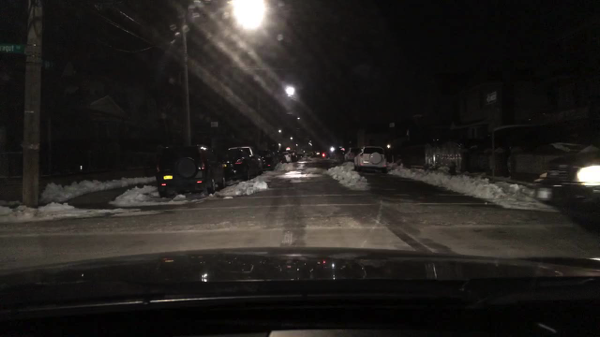car: (532, 149, 598, 233), (155, 143, 226, 194), (218, 148, 259, 179), (355, 146, 388, 173), (237, 146, 265, 174), (263, 148, 277, 172), (343, 148, 360, 160), (334, 148, 346, 160), (270, 151, 279, 166), (282, 152, 291, 163), (291, 151, 297, 163), (296, 153, 304, 159)
traffic sign: (0, 44, 24, 54), (482, 93, 498, 103), (209, 121, 217, 128), (387, 122, 395, 127)
